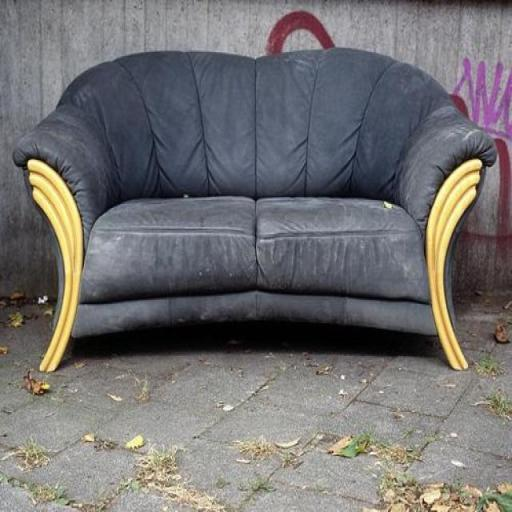sofa: (9, 40, 495, 407)
